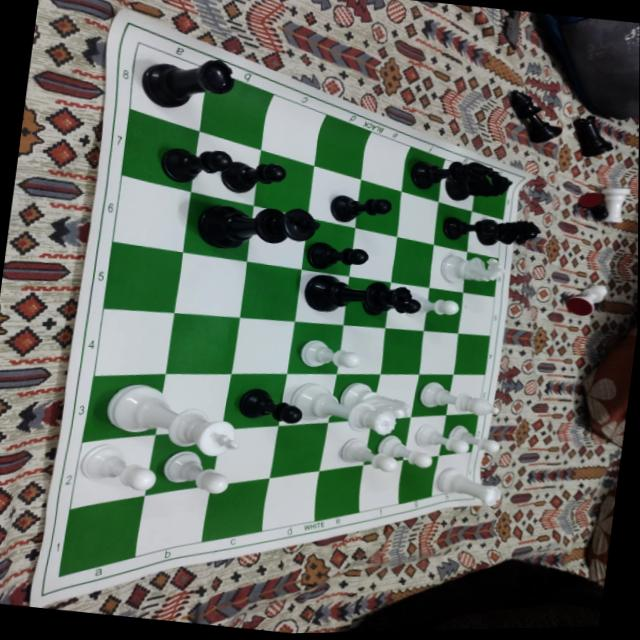board: (30, 5, 533, 603)
square: (57, 496, 143, 577), (129, 43, 207, 131), (69, 434, 154, 509), (120, 110, 198, 191), (111, 175, 189, 252), (198, 69, 272, 150), (80, 374, 164, 442), (102, 242, 182, 312), (133, 485, 209, 557), (92, 309, 173, 376), (189, 131, 260, 205), (143, 430, 221, 496), (181, 192, 252, 262), (259, 94, 325, 165), (172, 253, 245, 317), (154, 374, 230, 434), (164, 313, 238, 374), (252, 149, 313, 218), (201, 479, 267, 542), (210, 425, 278, 485), (245, 206, 306, 270), (313, 114, 370, 179), (238, 261, 299, 321), (220, 374, 285, 430), (230, 317, 293, 374), (260, 471, 318, 531), (306, 166, 359, 228), (268, 423, 326, 478), (277, 373, 335, 426), (301, 218, 353, 277), (294, 269, 348, 325), (360, 131, 410, 191), (286, 321, 342, 374), (318, 419, 370, 471), (347, 228, 396, 282), (314, 465, 361, 521), (354, 179, 400, 236), (327, 374, 378, 423), (342, 276, 390, 328), (401, 146, 444, 202), (361, 417, 410, 465), (335, 325, 383, 374), (357, 460, 401, 512), (396, 191, 437, 245), (370, 374, 418, 420), (384, 282, 428, 331), (390, 237, 432, 287), (437, 159, 477, 211), (379, 328, 422, 374), (401, 415, 444, 460), (398, 456, 438, 503), (427, 244, 466, 292), (433, 202, 470, 252), (430, 451, 470, 496), (471, 171, 508, 219), (410, 374, 451, 417), (422, 288, 461, 333), (417, 330, 456, 374), (465, 211, 501, 258), (438, 413, 477, 456), (456, 292, 493, 336), (444, 374, 483, 415), (462, 251, 497, 296), (452, 333, 488, 374)
